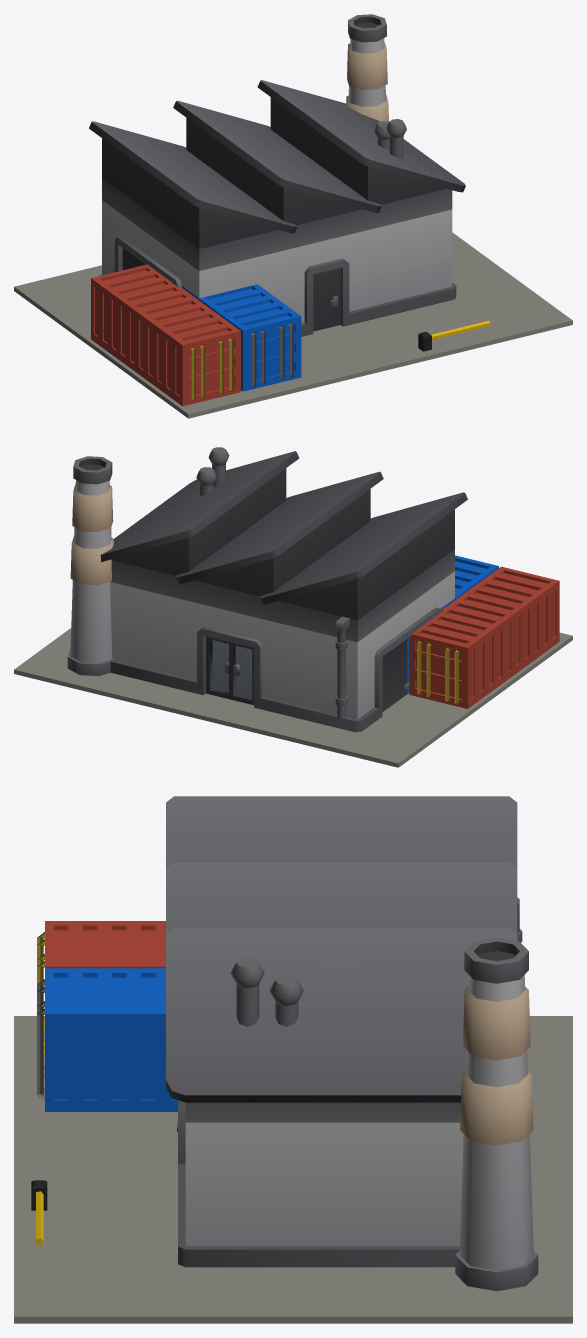
Rendered from war_factory.glb.
3 views of the same model, one above another, from view 1: azimuth 30°, elevation 25°; view 2: azimuth 150°, elevation 25°; view 3: azimuth 270°, elevation 25° (orthographic). The views are drawn at different scales.
Parts seen in each view (by area): view 1: building-k, slab, Container_01, Container_02, chimney-medium, BarrierParking; view 2: building-k, slab, Container_01, chimney-medium, Container_02; view 3: building-k, slab, chimney-medium, Container_02, Container_01, BarrierParking.
Part boxes in pixels (bbox=[...]): building-k: bbox=[89, 80, 465, 336]; slab: bbox=[14, 232, 572, 418]; Container_01: bbox=[91, 264, 240, 406]; Container_02: bbox=[182, 284, 301, 391]; chimney-medium: bbox=[346, 14, 388, 121]; BarrierParking: bbox=[418, 320, 490, 351]; building-k: bbox=[100, 447, 467, 732]; slab: bbox=[14, 628, 572, 767]; Container_01: bbox=[409, 566, 559, 708]; chimney-medium: bbox=[67, 456, 114, 676]; Container_02: bbox=[407, 555, 498, 693]; building-k: bbox=[166, 796, 522, 1267]; slab: bbox=[14, 1016, 572, 1323]; chimney-medium: bbox=[455, 937, 538, 1291]; Container_02: bbox=[37, 968, 177, 1111]; Container_01: bbox=[37, 921, 165, 1052]; BarrierParking: bbox=[31, 1180, 47, 1245].
Bounding box in the file's own units: 28 × 14.3 × 22.
8 materials, 1 textured.
